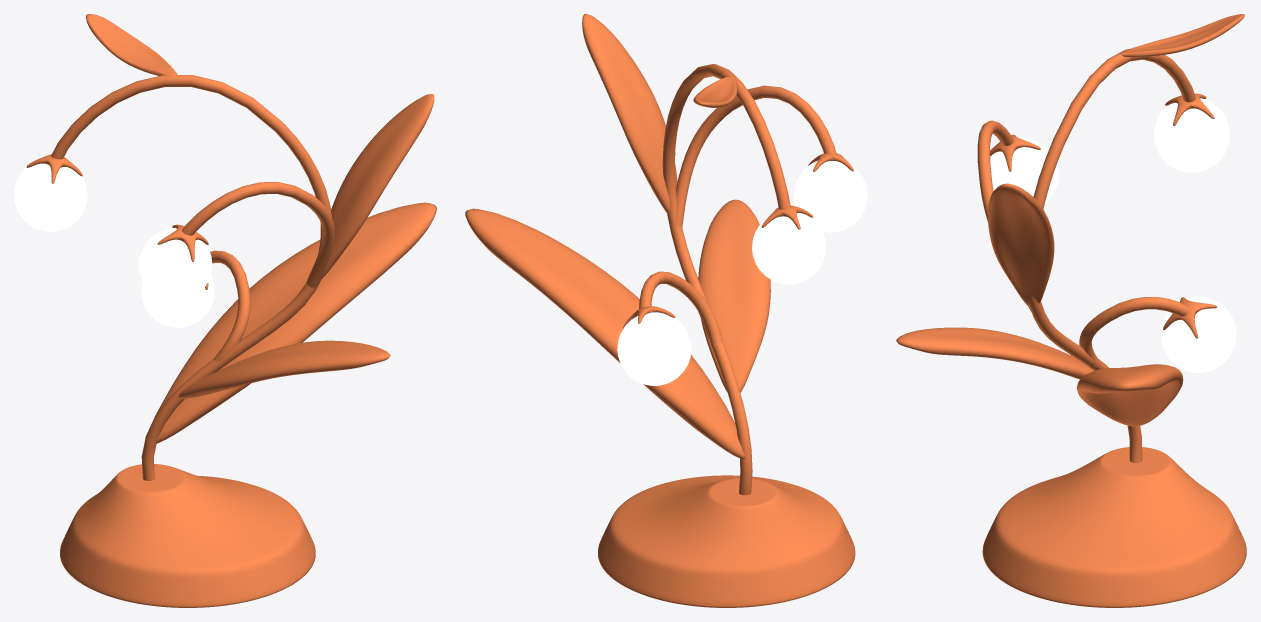
Rendered from Egglamp.glb.
3 views of the same model, side by side, from view 1: azimuth 30°, elevation 25°; view 2: azimuth 150°, elevation 25°; view 3: azimuth 270°, elevation 25° (orthographic). The views are drawn at different scales.
Parts seen in each view (by area): view 1: Base_green_paint_0, Leave0_green_paint_0, strand1_green_paint_0, Leave2_green_paint_0, Leave1_green_paint_0, bulb1_Lamp_0, bulb2_Lamp_0, strand3_green_paint_0, Leave3_green_paint_0, bulb3_Lamp_0, strand2_green_paint_0; view 2: Base_green_paint_0, Leave0_green_paint_0, Leave1_green_paint_0, strand1_green_paint_0, Leave2_green_paint_0, bulb3_Lamp_0, bulb1_Lamp_0, bulb2_Lamp_0, strand3_green_paint_0, strand2_green_paint_0, Leave3_green_paint_0; view 3: Base_green_paint_0, Leave2_green_paint_0, strand1_green_paint_0, Leave0_green_paint_0, Leave1_green_paint_0, bulb1_Lamp_0, bulb3_Lamp_0, bulb2_Lamp_0, Leave3_green_paint_0, strand2_green_paint_0, strand3_green_paint_0, flowerb3_green_paint_0 (+2 smaller).
Part boxes in pixels (x1,y1,x2,y2): Base_green_paint_0: [60, 464, 315, 607]; Leave0_green_paint_0: [154, 202, 436, 443]; strand1_green_paint_0: [51, 75, 331, 480]; Leave2_green_paint_0: [320, 94, 434, 279]; Leave1_green_paint_0: [178, 340, 390, 399]; bulb1_Lamp_0: [14, 163, 87, 231]; bulb2_Lamp_0: [138, 228, 212, 301]; strand3_green_paint_0: [182, 182, 334, 287]; Leave3_green_paint_0: [86, 14, 177, 76]; bulb3_Lamp_0: [141, 275, 214, 327]; strand2_green_paint_0: [210, 250, 250, 361]; Base_green_paint_0: [598, 475, 855, 607]; Leave0_green_paint_0: [465, 208, 744, 458]; Leave1_green_paint_0: [698, 199, 770, 392]; strand1_green_paint_0: [662, 64, 790, 495]; Leave2_green_paint_0: [582, 14, 677, 213]; bulb3_Lamp_0: [617, 312, 691, 385]; bulb1_Lamp_0: [752, 212, 825, 284]; bulb2_Lamp_0: [793, 160, 867, 232]; strand3_green_paint_0: [674, 85, 836, 226]; strand2_green_paint_0: [639, 271, 722, 348]; Leave3_green_paint_0: [693, 76, 737, 107]; Base_green_paint_0: [982, 447, 1246, 607]; Leave2_green_paint_0: [987, 183, 1054, 306]; strand1_green_paint_0: [1029, 49, 1195, 462]; Leave0_green_paint_0: [1076, 364, 1183, 426]; Leave1_green_paint_0: [896, 327, 1093, 379]; bulb1_Lamp_0: [1154, 98, 1229, 172]; bulb3_Lamp_0: [1160, 296, 1236, 372]; bulb2_Lamp_0: [990, 137, 1058, 204]; Leave3_green_paint_0: [1120, 14, 1244, 57]; strand2_green_paint_0: [1079, 297, 1189, 367]; strand3_green_paint_0: [977, 120, 1031, 312]; flowerb3_green_paint_0: [1163, 297, 1217, 338].
Bounding box in the file's own units: 0.2564 × 0.321 × 0.1962.
